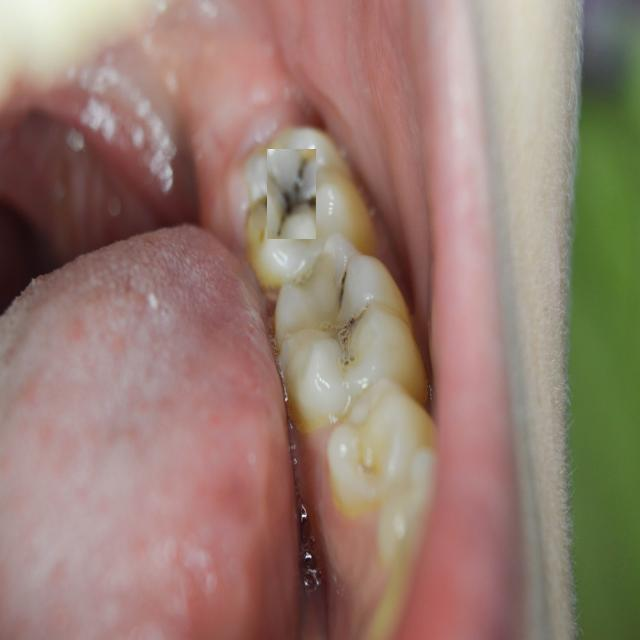caries: (327, 250, 372, 360), (267, 149, 316, 239)
